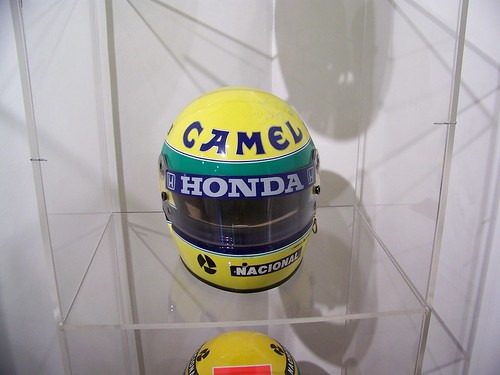helmet: (152, 82, 332, 293)
